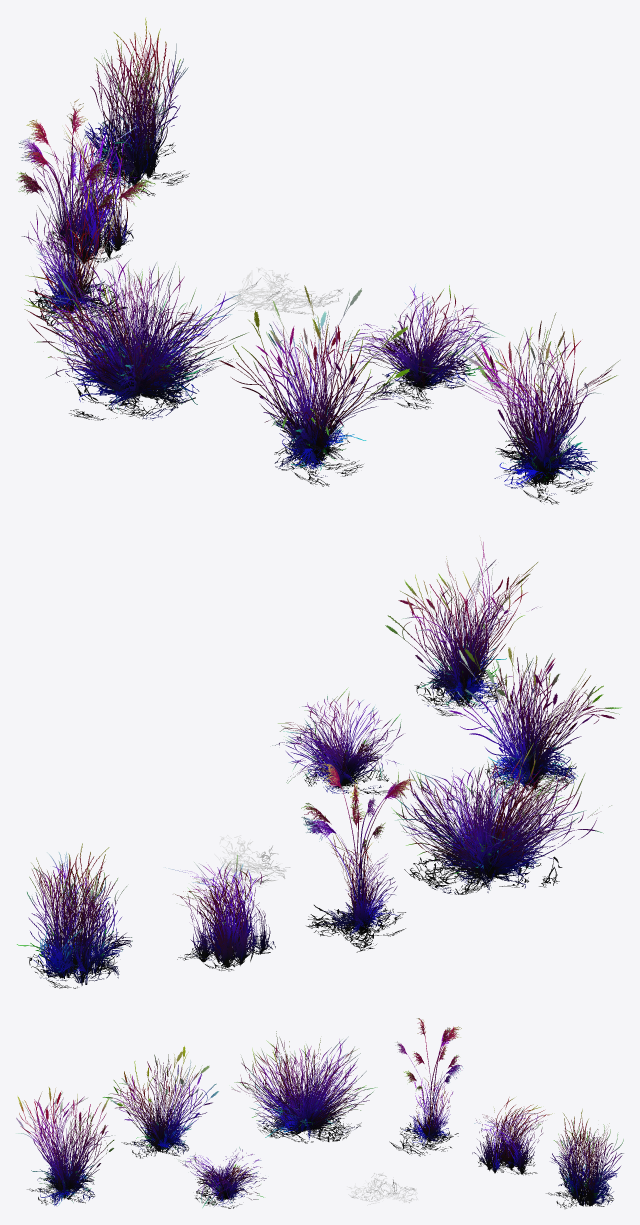
File: AAA.FBX
The picture shows the model from 3 angles, top to bottom: view 1: azimuth 30°, elevation 25°; view 2: azimuth 150°, elevation 25°; view 3: azimuth 270°, elevation 25°; orthographic projection. The views are drawn at different scales.
Parts seen in each view (by area): view 1: 3d66-Editable_Poly-20320236-001, 3d66-Editable_Poly-20320236-003, 3d66-Editable_Poly-20320236-002, 3d66-Editable_Poly-20320236-004, 3d66-Editable_Poly-20320236-007, 3d66-Editable_Poly-20320236-006, 3d66-Editable_Poly-20320236-005, 3d66-Editable_Poly-20320236-008; view 2: 3d66-Editable_Poly-20320236-001, 3d66-Editable_Poly-20320236-003, 3d66-Editable_Poly-20320236-002, 3d66-Editable_Poly-20320236-004, 3d66-Editable_Poly-20320236-007, 3d66-Editable_Poly-20320236-005, 3d66-Editable_Poly-20320236-006, 3d66-Editable_Poly-20320236-008; view 3: 3d66-Editable_Poly-20320236-001, 3d66-Editable_Poly-20320236-002, 3d66-Editable_Poly-20320236-003, 3d66-Editable_Poly-20320236-004, 3d66-Editable_Poly-20320236-007, 3d66-Editable_Poly-20320236-005, 3d66-Editable_Poly-20320236-006, 3d66-Editable_Poly-20320236-008.
Part boxes in pixels (<box>): 3d66-Editable_Poly-20320236-001: <box>21,248,248,420</box>; 3d66-Editable_Poly-20320236-003: <box>219,285,409,486</box>; 3d66-Editable_Poly-20320236-002: <box>457,312,619,504</box>; 3d66-Editable_Poly-20320236-004: <box>83,18,189,196</box>; 3d66-Editable_Poly-20320236-007: <box>16,99,155,326</box>; 3d66-Editable_Poly-20320236-006: <box>339,284,504,409</box>; 3d66-Editable_Poly-20320236-005: <box>33,119,140,263</box>; 3d66-Editable_Poly-20320236-008: <box>229,267,343,315</box>; 3d66-Editable_Poly-20320236-001: <box>391,743,611,894</box>; 3d66-Editable_Poly-20320236-003: <box>448,647,621,800</box>; 3d66-Editable_Poly-20320236-002: <box>385,537,540,716</box>; 3d66-Editable_Poly-20320236-004: <box>17,843,132,988</box>; 3d66-Editable_Poly-20320236-007: <box>301,763,415,952</box>; 3d66-Editable_Poly-20320236-005: <box>165,854,275,971</box>; 3d66-Editable_Poly-20320236-006: <box>272,687,403,795</box>; 3d66-Editable_Poly-20320236-008: <box>192,835,290,889</box>; 3d66-Editable_Poly-20320236-001: <box>231,1031,377,1143</box>; 3d66-Editable_Poly-20320236-002: <box>16,1087,114,1205</box>; 3d66-Editable_Poly-20320236-003: <box>102,1046,218,1158</box>; 3d66-Editable_Poly-20320236-004: <box>546,1109,623,1208</box>; 3d66-Editable_Poly-20320236-007: <box>389,1018,463,1156</box>; 3d66-Editable_Poly-20320236-005: <box>472,1097,552,1175</box>; 3d66-Editable_Poly-20320236-006: <box>180,1147,266,1208</box>; 3d66-Editable_Poly-20320236-008: <box>347,1172,417,1205</box>.
Size of the model in its own units: 30.69 by 14.09 by 62.13.
